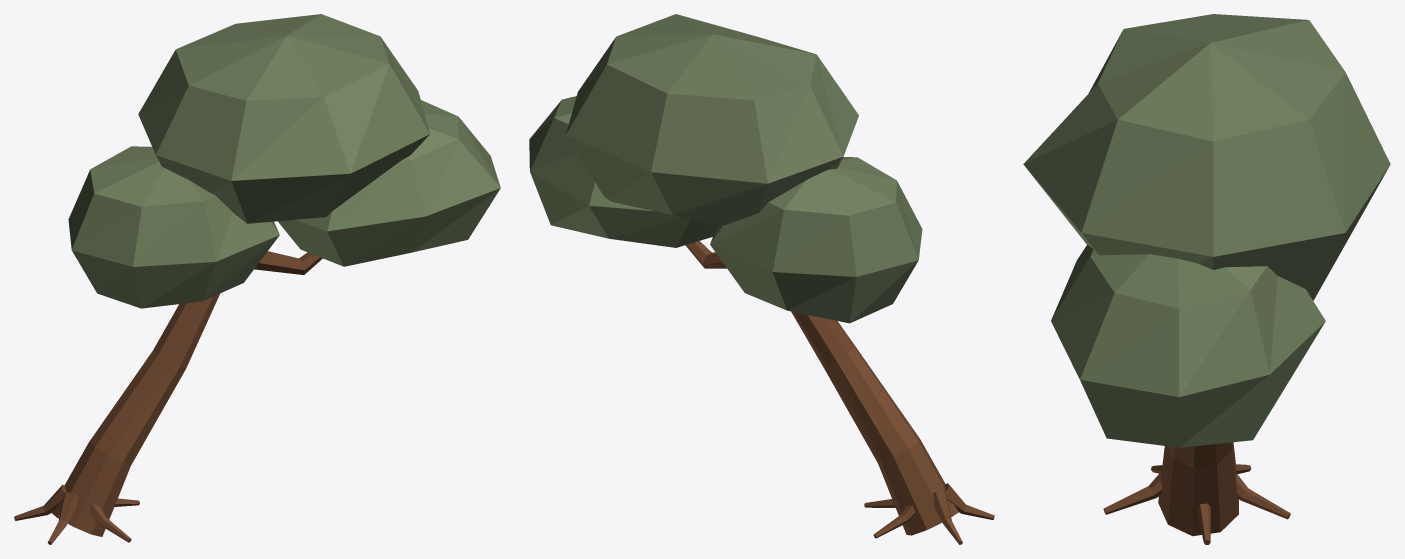
File: Plant_Common_LeaningRiverTree_001.glb
The picture shows the model from 3 angles, left to right: view 1: azimuth 30°, elevation 25°; view 2: azimuth 150°, elevation 25°; view 3: azimuth 270°, elevation 25°; orthographic projection. The views are drawn at different scales.
Visible parts, largest first — view 1: Plant_Common_LeaningRiverTree_001; view 2: Plant_Common_LeaningRiverTree_001; view 3: Plant_Common_LeaningRiverTree_001.
Boxes of the visible parts, x1,y1,x2,y2 form: Plant_Common_LeaningRiverTree_001: (14, 14, 500, 544); Plant_Common_LeaningRiverTree_001: (529, 14, 994, 544); Plant_Common_LeaningRiverTree_001: (1023, 14, 1390, 544).
Size of the model in its own units: 5.36 by 5.05 by 2.69.
